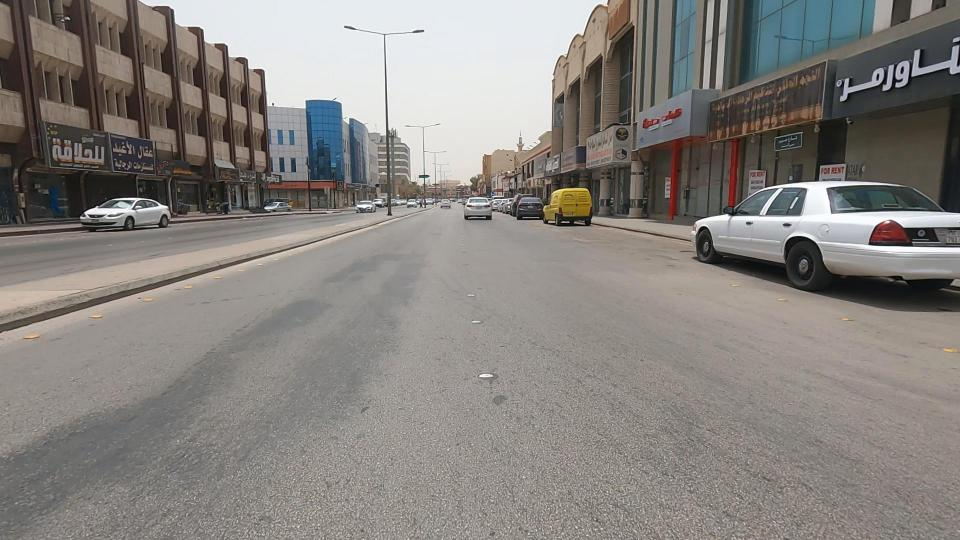BAD_BILLBOARD: (660, 54, 861, 166)
